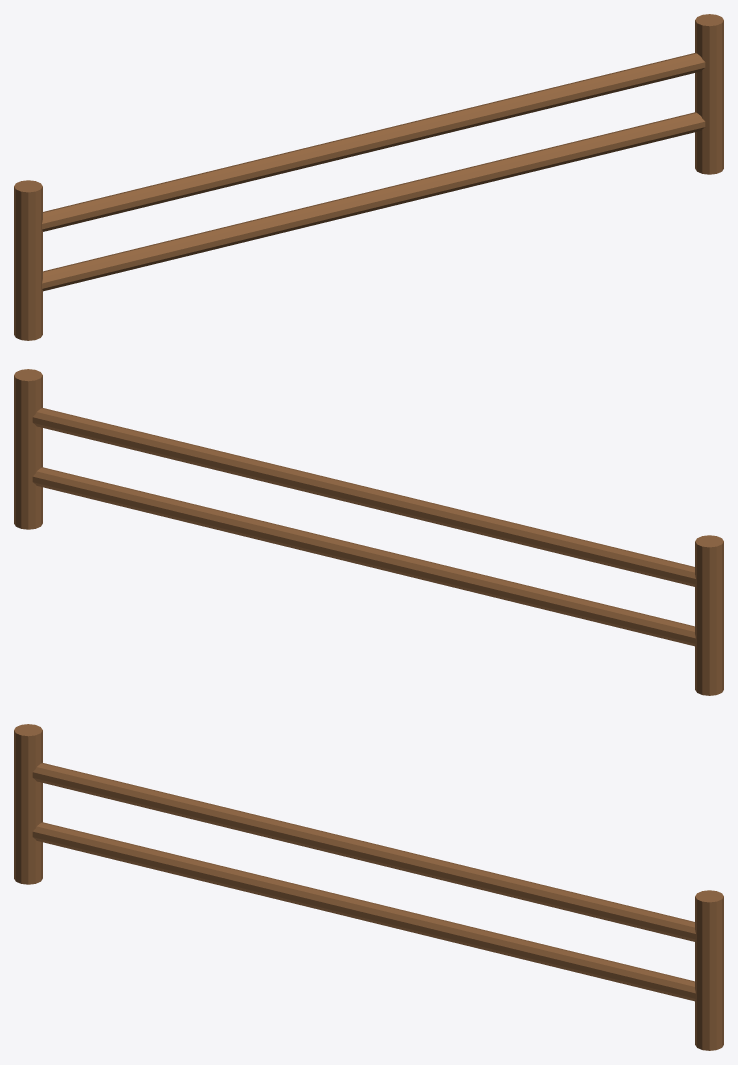
The model's file is split-rail-fence.glb.
3 views of the same model, one above another, from view 1: azimuth 30°, elevation 25°; view 2: azimuth 150°, elevation 25°; view 3: azimuth 330°, elevation 25° (orthographic).
Visible parts, largest first — view 1: Fence 0 rail 0.42, Fence 0 rail 0.92, Fence 0 post -3.0, Fence 0 post 3.0; view 2: Fence 0 rail 0.42, Fence 0 rail 0.92, Fence 0 post -3.0, Fence 0 post 3.0; view 3: Fence 0 rail 0.42, Fence 0 rail 0.92, Fence 0 post 3.0, Fence 0 post -3.0.
Boxes of the visible parts, x1,y1,x2,y2 form: Fence 0 rail 0.42: (42, 112, 705, 291); Fence 0 rail 0.92: (42, 53, 705, 231); Fence 0 post -3.0: (14, 180, 42, 340); Fence 0 post 3.0: (695, 14, 723, 174); Fence 0 rail 0.42: (32, 467, 695, 646); Fence 0 rail 0.92: (32, 408, 695, 586); Fence 0 post -3.0: (695, 535, 723, 695); Fence 0 post 3.0: (14, 369, 42, 529); Fence 0 rail 0.42: (32, 822, 695, 1001); Fence 0 rail 0.92: (32, 763, 695, 941); Fence 0 post 3.0: (695, 890, 723, 1050); Fence 0 post -3.0: (14, 724, 42, 884).
Bounding box in the file's own units: 6.22 × 1.25 × 0.22.
